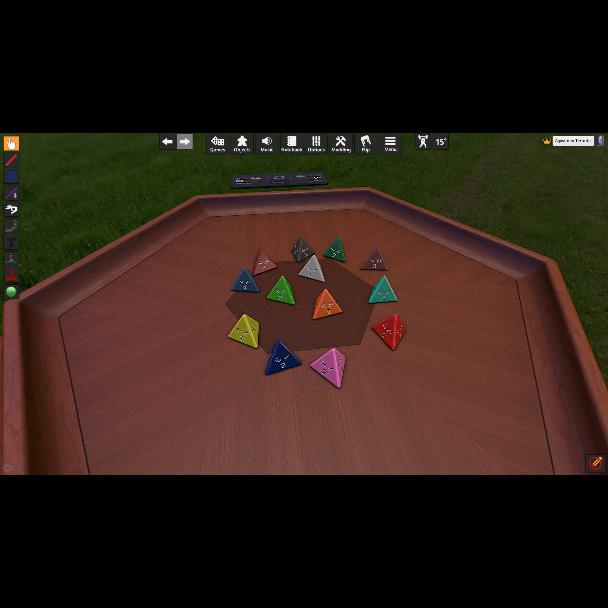d4: (310, 348, 346, 388), (266, 340, 302, 376), (372, 314, 404, 350), (228, 315, 260, 349), (312, 288, 342, 319), (266, 276, 296, 306), (368, 276, 398, 304), (232, 267, 260, 293), (298, 255, 324, 283), (361, 246, 388, 272), (253, 248, 277, 276), (323, 237, 347, 263), (292, 238, 314, 264)
